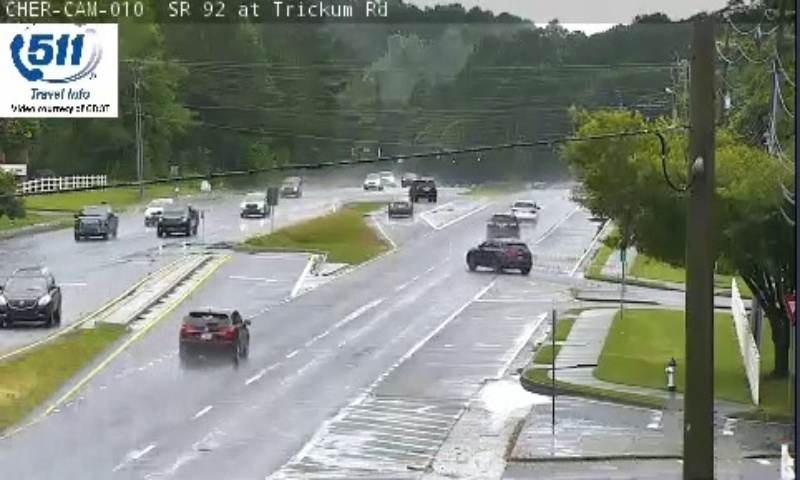car: (180, 309, 248, 358), (485, 214, 520, 238), (511, 200, 537, 223)
